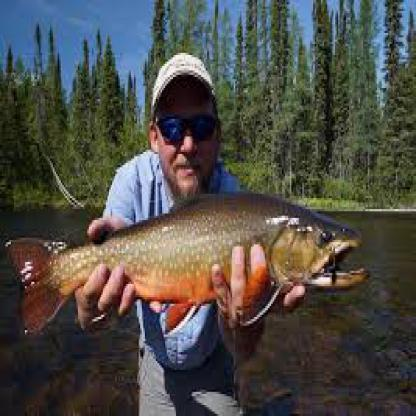fish: (3, 186, 368, 338)
